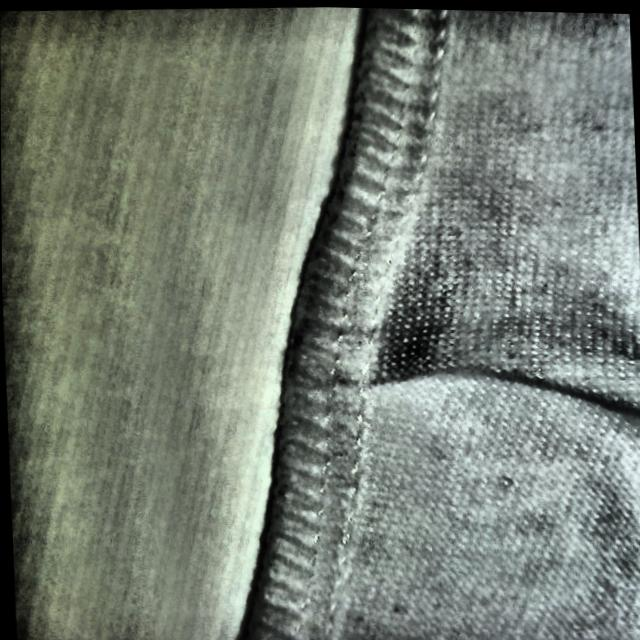seam: (268, 263, 613, 456)
